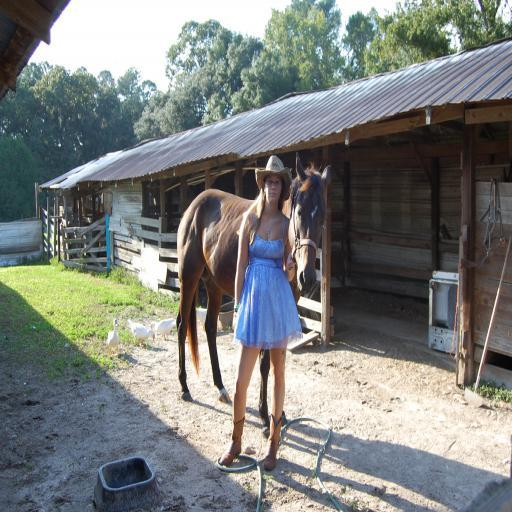Horse: (175, 151, 332, 441)
